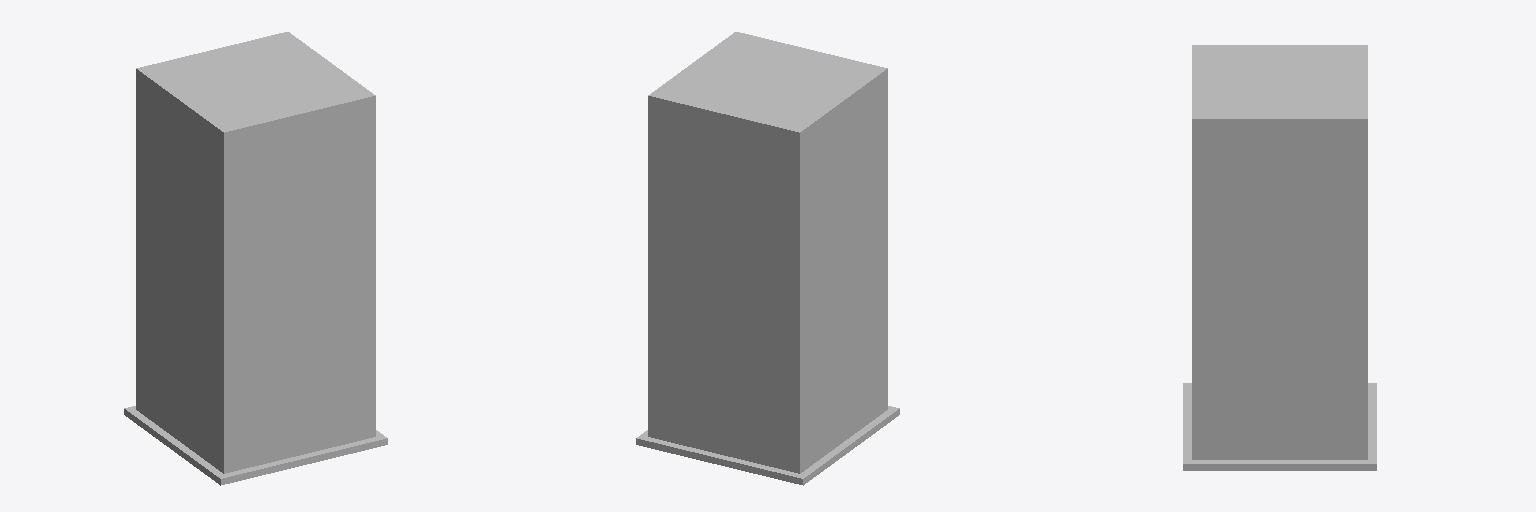
File: Level4_VerticalMine.obj
3 views of the same model, side by side, from view 1: azimuth 30°, elevation 25°; view 2: azimuth 150°, elevation 25°; view 3: azimuth 270°, elevation 25° (orthographic).
Size of the model in its own units: 26.4 by 52.5 by 26.4.